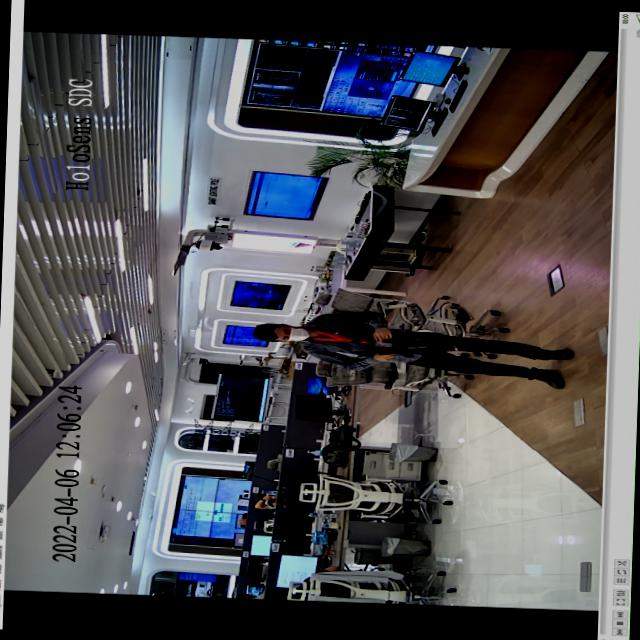long weapon: (346, 329, 468, 364)
